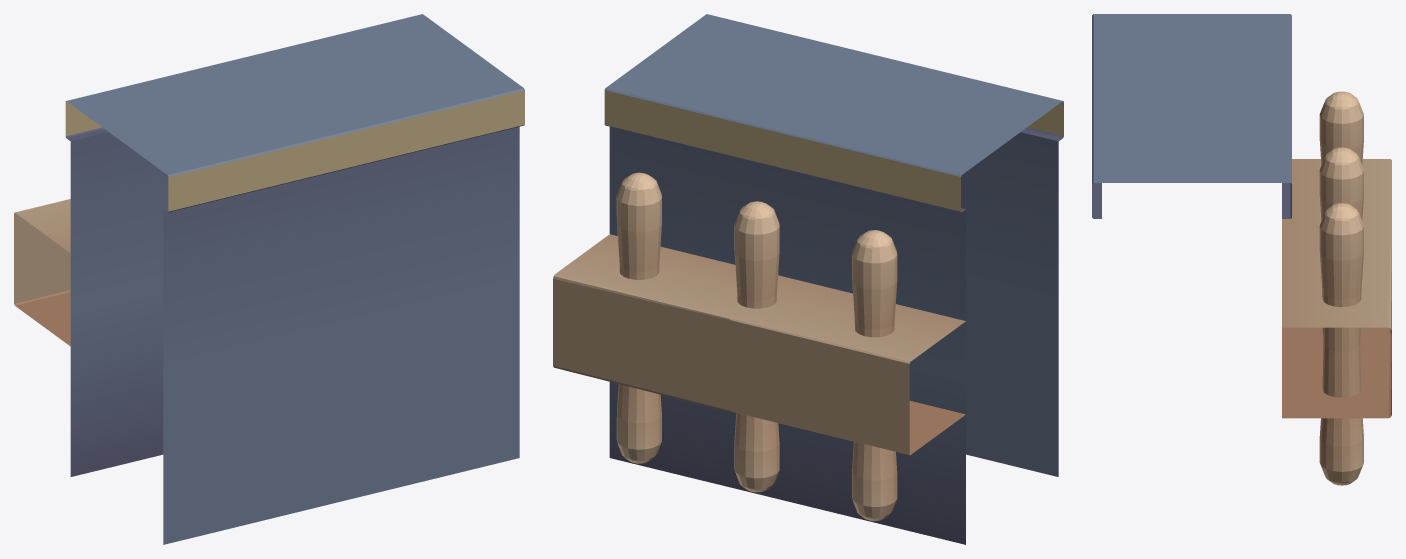
File: BoatFence_hanger_middle.fbx
3 views of the same model, side by side, from view 1: azimuth 30°, elevation 25°; view 2: azimuth 150°, elevation 25°; view 3: azimuth 270°, elevation 25° (orthographic). The views are drawn at different scales.
Parts seen in each view (by area): view 1: Board_fence_holder.001; view 2: Board_fence_holder.001; view 3: Board_fence_holder.001.
Part boxes in pixels (<box>): Board_fence_holder.001: <box>14,14,524,544</box>; Board_fence_holder.001: <box>553,14,1063,544</box>; Board_fence_holder.001: <box>1092,14,1391,485</box>.
Size of the model in its own units: 200 by 200 by 150.
